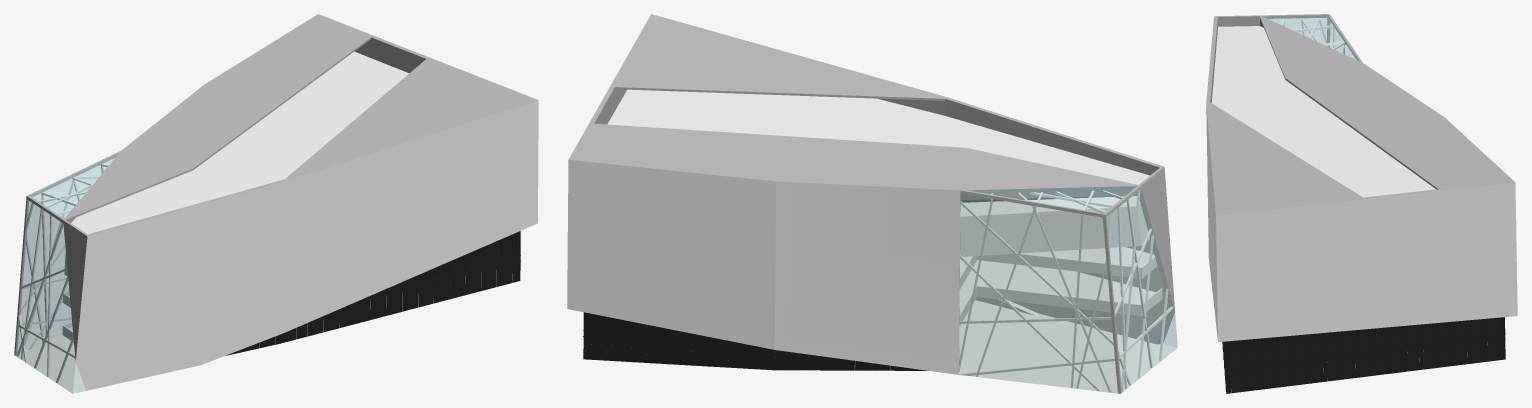
File: reference-museum.glb
3 renders of one model, left to right at view 1: azimuth 30°, elevation 25°; view 2: azimuth 150°, elevation 25°; view 3: azimuth 270°, elevation 25°, orthographic. The views are drawn at different scales.
Parts seen in each view (by area): view 1: empty_484, empty_481, empty_482, empty_479, empty_468, empty_470, empty_485, empty_469, empty_466, empty_464, empty_471; view 2: empty_484, empty_481, empty_479, empty_482, empty_485, empty_475, empty_468, empty_470, empty_473, empty_469, empty_464, empty_466 (+2 smaller); view 3: empty_484, empty_481, empty_482, empty_468, empty_466, empty_479, empty_464, empty_469.
Part boxes in pixels (x1,y1,x2,y2): empty_484: (75, 100, 538, 390); empty_481: (14, 14, 538, 360); empty_482: (71, 51, 408, 234); empty_479: (15, 154, 117, 393); empty_468: (225, 231, 520, 355); empty_470: (16, 164, 107, 382); empty_485: (16, 327, 85, 393); empty_469: (20, 163, 108, 352); empty_466: (231, 232, 520, 354); empty_464: (30, 153, 512, 347); empty_471: (227, 262, 516, 355); empty_484: (567, 159, 960, 374); empty_481: (568, 14, 1174, 393); empty_479: (959, 186, 1177, 393); empty_482: (607, 89, 1149, 184); empty_485: (959, 260, 1177, 393); empty_475: (960, 196, 1162, 315); empty_468: (583, 312, 928, 370); empty_470: (959, 190, 1173, 392); empty_473: (1010, 239, 1168, 344); empty_469: (959, 190, 1136, 391); empty_464: (585, 186, 1174, 350); empty_466: (583, 313, 915, 370); empty_484: (1206, 105, 1517, 342); empty_481: (1206, 14, 1514, 215); empty_482: (1211, 26, 1435, 197); empty_468: (1223, 317, 1505, 393); empty_466: (1223, 318, 1505, 393); empty_479: (1264, 15, 1358, 60); empty_464: (1259, 15, 1358, 78); empty_469: (1293, 18, 1355, 59).
Size of the model in its own units: 8.08 by 2.98 by 4.54.
